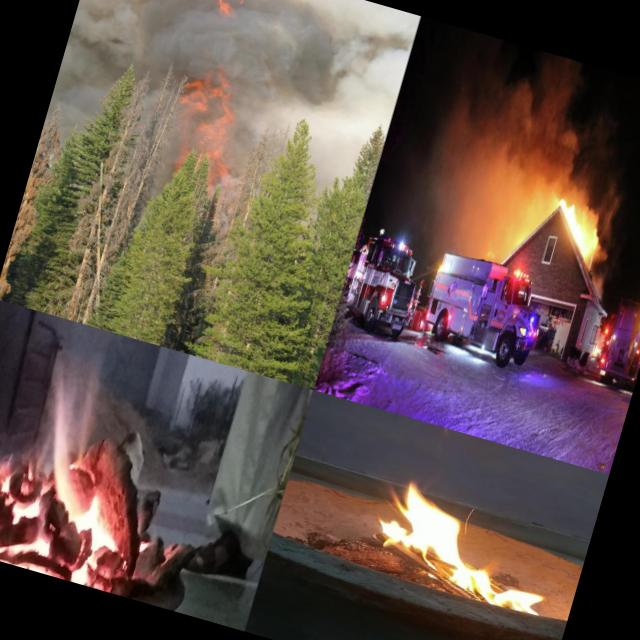fire: (0, 367, 179, 598), (348, 457, 570, 618), (154, 67, 252, 185), (548, 191, 611, 270), (198, 0, 253, 22)
smoke: (447, 35, 602, 209), (222, 0, 417, 134), (48, 0, 213, 139), (567, 106, 636, 206), (586, 178, 640, 300)
